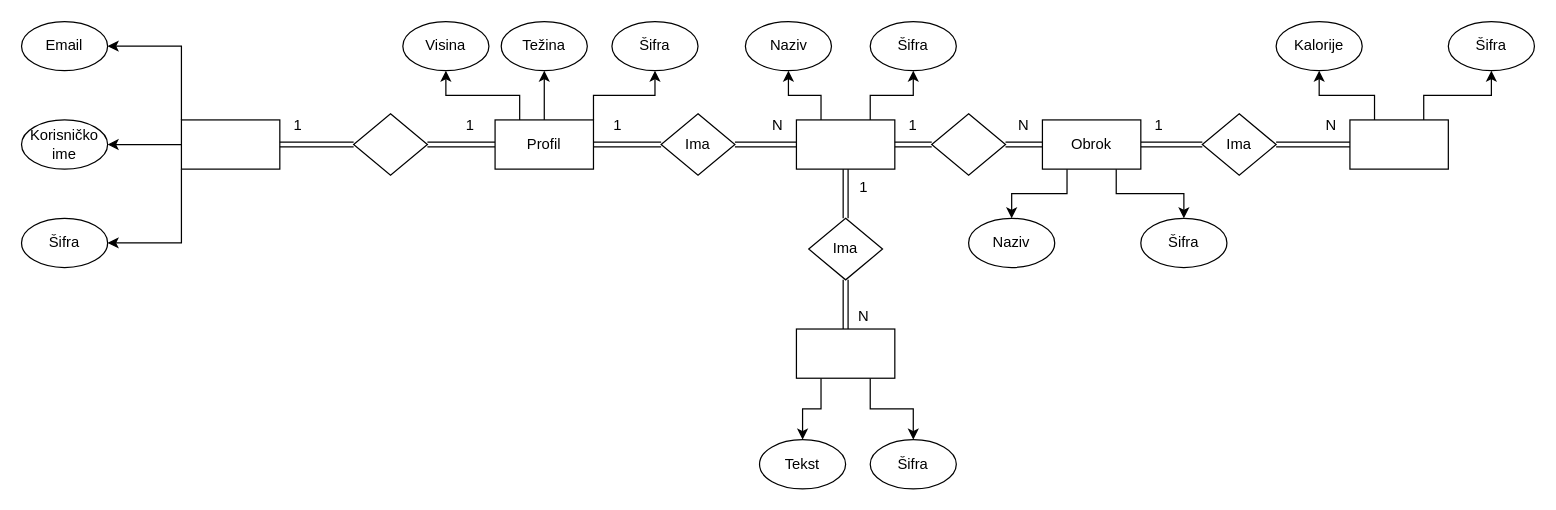
Image size: 1556x510. Some labels were removed from this diagram. Here are the shapes that lost their labels. From the top down, the centre of each, then its label:
pixel 230 144: Korisnik
pixel 389 144: Kreira
pixel 845 144: Dnevnik Pehrane
pixel 968 144: Sadrži
pixel 1398 144: Nutritivne informacije
pixel 845 353: Komentar
